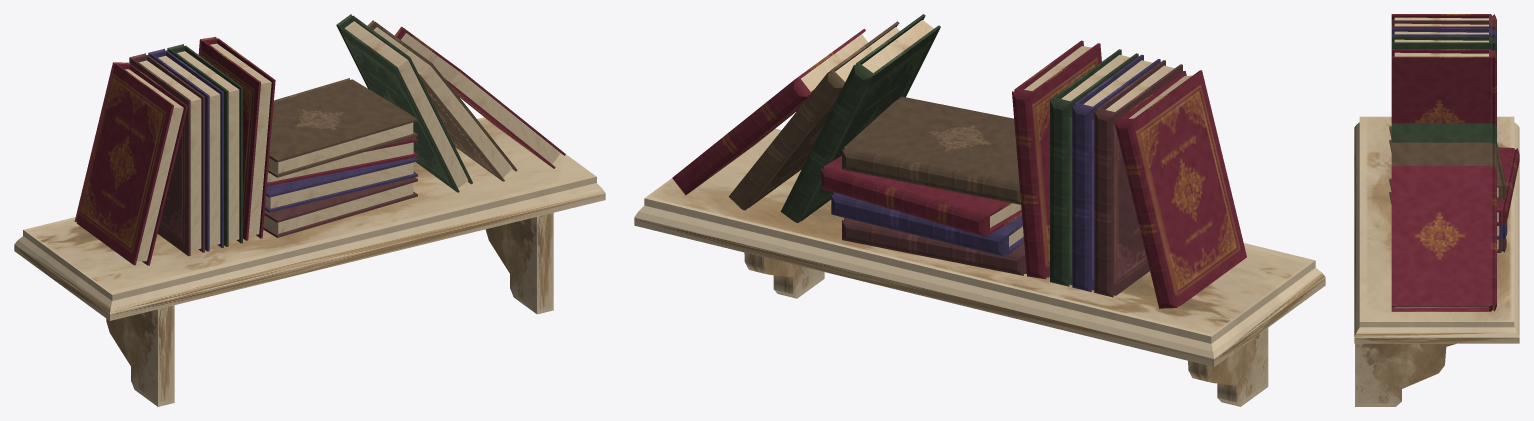
File: etagere.FBX
3 renders of one model, left to right at view 1: azimuth 30°, elevation 25°; view 2: azimuth 150°, elevation 25°; view 3: azimuth 270°, elevation 25°, orthographic. The views are drawn at different scales.
Visible parts, largest first — view 1: Box001; view 2: Box001; view 3: Box001.
Boxes of the visible parts, x1,y1,x2,y2 form: Box001: [14, 14, 605, 406]; Box001: [634, 14, 1325, 406]; Box001: [1354, 14, 1519, 406].
Bounding box in the file's own units: 150 × 80.69 × 50.
